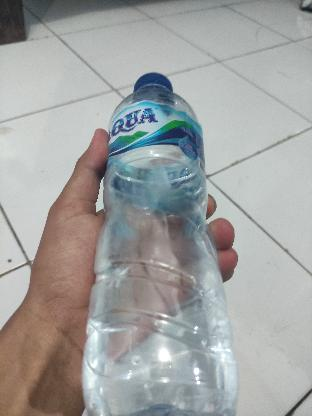Plastic Bottle: (58, 56, 266, 416)
